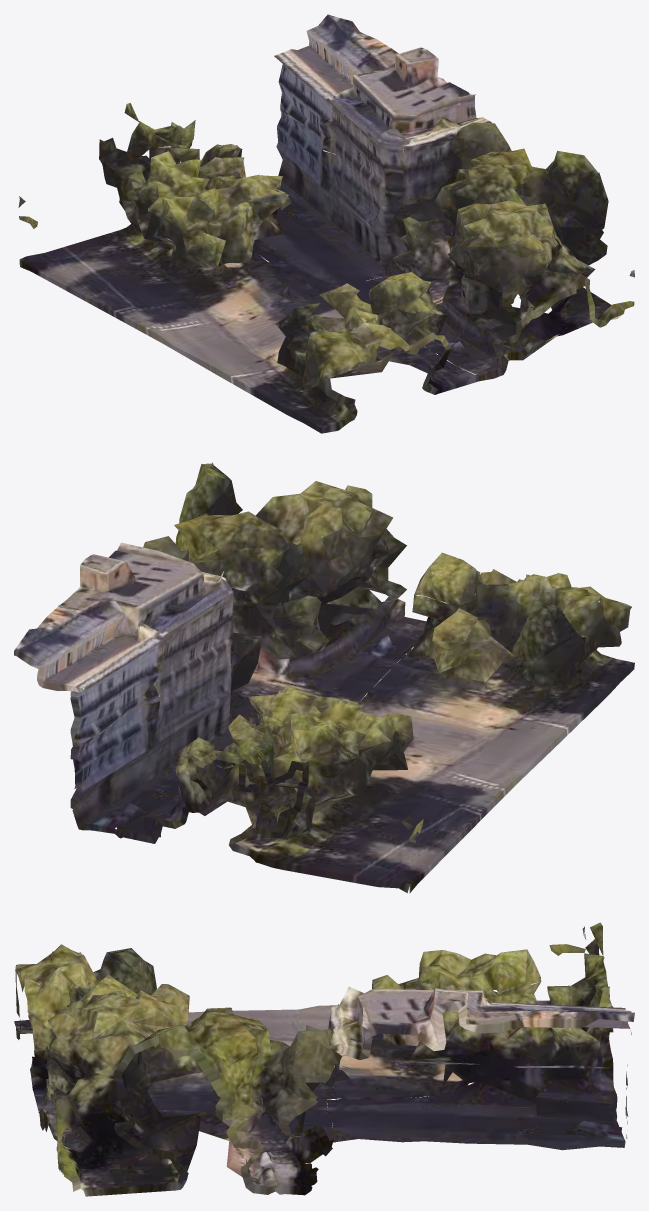
3 views of the same model, one above another, from view 1: azimuth 30°, elevation 25°; view 2: azimuth 150°, elevation 25°; view 3: azimuth 270°, elevation 25° (orthographic). The views are drawn at different scales.
Parts seen in each view (by area): view 1: Mesh_0; view 2: Mesh_0; view 3: Mesh_0.
Part boxes in pixels (x1,y1,x2,y2): Mesh_0: (18, 14, 634, 433); Mesh_0: (14, 462, 634, 893); Mesh_0: (14, 922, 634, 1196).
Size of the model in its own units: 67.51 by 28.76 by 82.54.
Materials: 1 (1 with a texture image).
